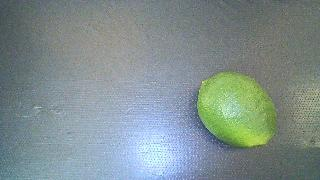EXPORTACION: (197, 72, 277, 147)
